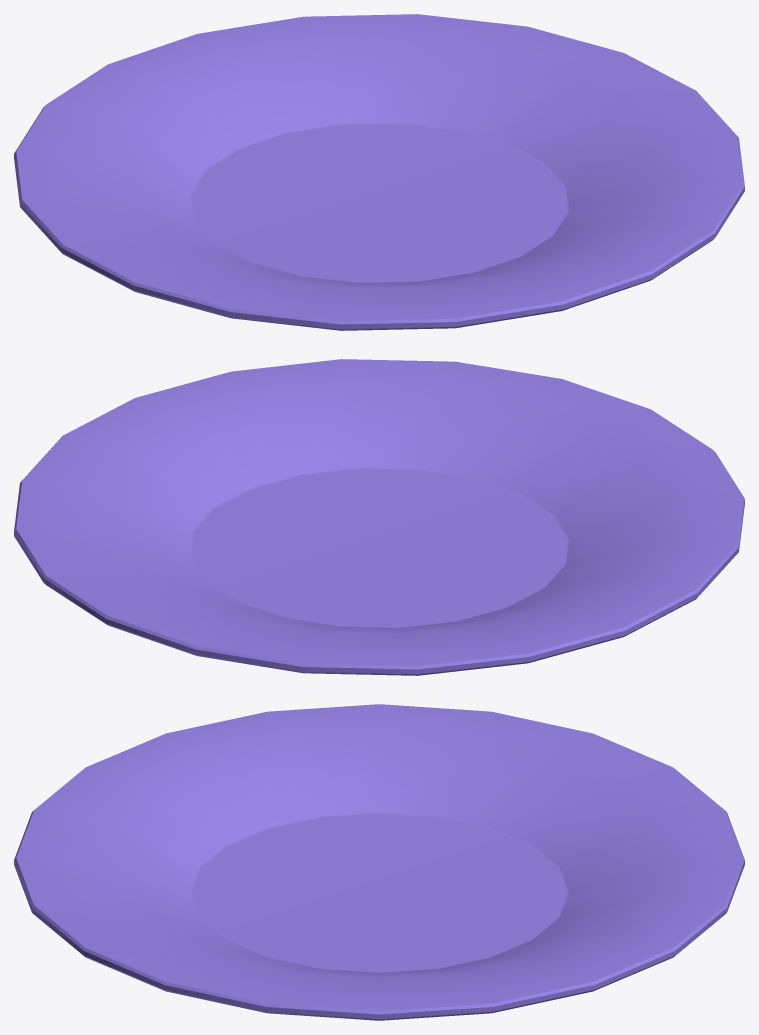
The model's file is masu1.fbx.
3 renders of one model, top to bottom at view 1: azimuth 30°, elevation 25°; view 2: azimuth 150°, elevation 25°; view 3: azimuth 270°, elevation 25°, orthographic.
Visible parts, largest first — view 1: pCylinder1; view 2: pCylinder1; view 3: pCylinder1.
Part boxes in pixels (x1,y1,x2,y2): pCylinder1: (14,14,744,330); pCylinder1: (14,359,744,675); pCylinder1: (14,704,744,1020).
Bounding box in the file's own units: 4.45 × 0.3029 × 4.45.
